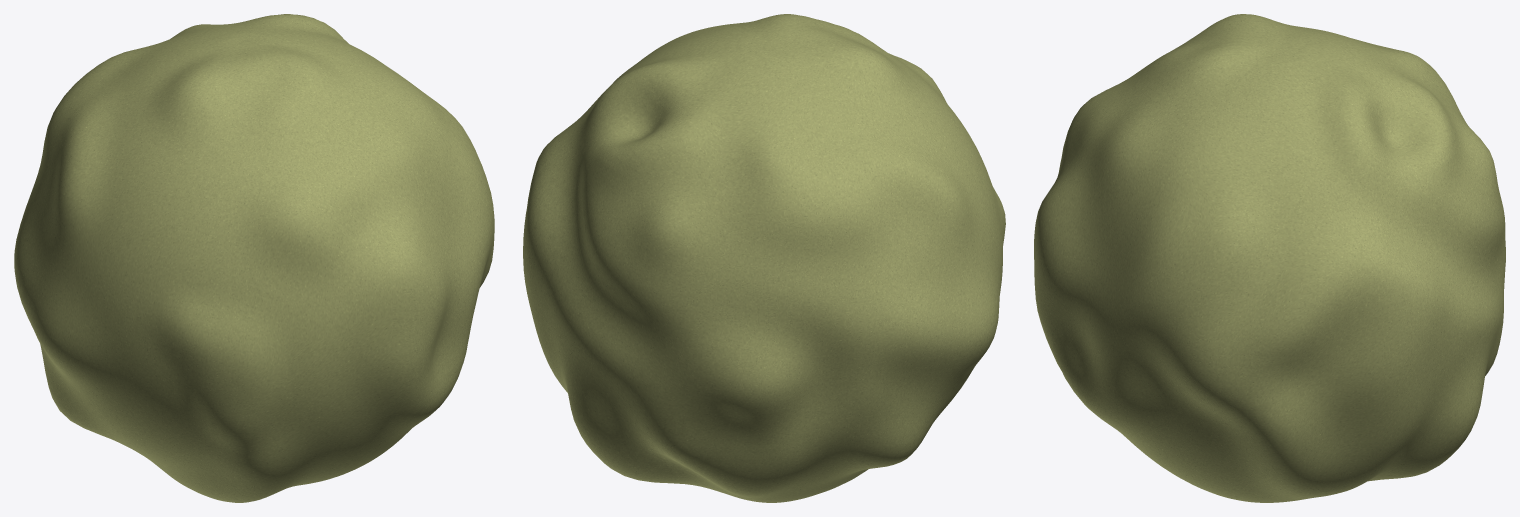
Rendered from SandPlanet.gltf.
3 views of the same model, side by side, from view 1: azimuth 30°, elevation 25°; view 2: azimuth 150°, elevation 25°; view 3: azimuth 270°, elevation 25° (orthographic).
Parts seen in each view (by area): view 1: Sphere; view 2: Sphere; view 3: Sphere.
Boxes of the visible parts, x1,y1,x2,y2 form: Sphere: [14, 14, 494, 502]; Sphere: [523, 14, 1005, 502]; Sphere: [1034, 14, 1505, 502].
Bounding box in the file's own units: 2.1 × 2.05 × 2.01.
1 material, 1 textured.
